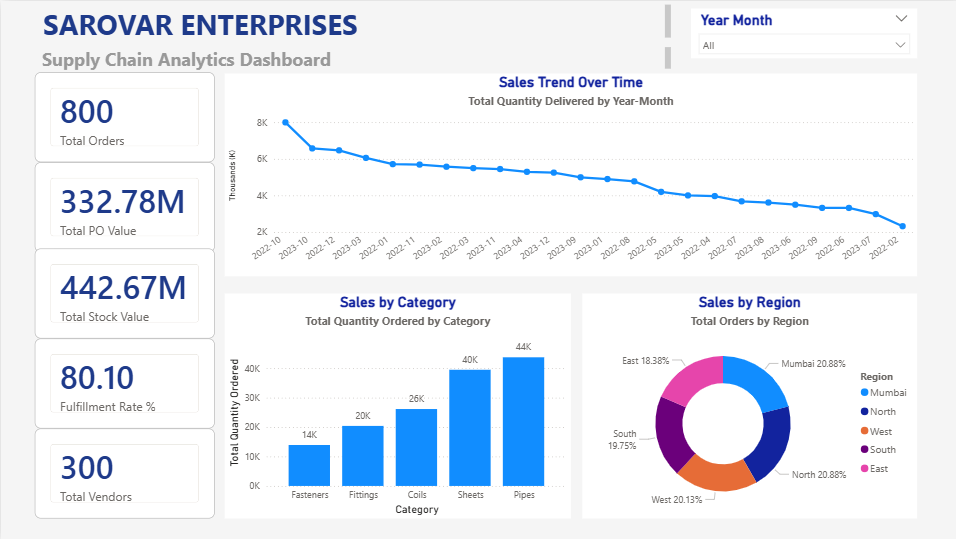

This screenshot's page, from the dashboard's own definition file:
{"tool":"powerbi","page":{"name":"Executive Summary","canvas":[1280,720],"ordinal":0},"visuals":[{"type":"textbox","box":[10,0,888.3,56.7],"z":0},{"type":"textbox","box":[10,56.7,888.3,40],"z":1000},{"type":"cardVisual","fields":{"Data":["_Measures.Total Orders"]},"box":[45,95,240,120],"z":2000},{"type":"cardVisual","fields":{"Data":["_Measures.Total PO Value"]},"box":[45,215,240,120],"z":3000},{"type":"cardVisual","fields":{"Data":["_Measures.Total Stock Value"]},"box":[45,330,240,120],"z":4000},{"type":"cardVisual","fields":{"Data":["_Measures.Fulfillment Rate %"]},"box":[45,450,240,120],"z":5000},{"type":"cardVisual","fields":{"Data":["_Measures.Total Vendors"]},"box":[45,570,240,120],"z":6000},{"type":"lineChart","title":"Sales Trend Over Time","fields":{"Category":["Date Table.Year-Month"],"Y":["_Measures.Total Quantity Delivered"]},"box":[298.3,96.7,923.3,270],"z":7000},{"type":"clusteredColumnChart","title":"Sales by Category","fields":{"Category":["inventory_data.Category"],"Y":["_Measures.Total Quantity Ordered"]},"box":[298.3,390,461.7,300],"z":8000},{"type":"donutChart","title":"Sales by Region","fields":{"Category":["sales_orders.Region"],"Y":["_Measures.Total Orders"]},"box":[775,390,446.7,300],"z":9000},{"type":"slicer","fields":{"Values":["Date Table.Year-Month","Date Table.Date"]},"box":[920,10,301.7,66.7],"z":10000}]}

Visuals, with their boxes in screenshot pixels (x1, y1, x2, y2), scaled from the page's 1280x720 canvas onto the 956x539 screenshot:
textbox: 7/0/671/42
textbox: 7/42/671/72
cardVisual - _Measures.Total Orders: 34/71/213/161
cardVisual - _Measures.Total PO Value: 34/161/213/251
cardVisual - _Measures.Total Stock Value: 34/247/213/337
cardVisual - _Measures.Fulfillment Rate %: 34/337/213/427
cardVisual - _Measures.Total Vendors: 34/427/213/517
"Sales Trend Over Time" lineChart: 223/72/912/275
"Sales by Category" clusteredColumnChart: 223/292/568/517
"Sales by Region" donutChart: 579/292/912/517
slicer - Date Table.Year-Month x Date Table.Date: 687/7/912/57
